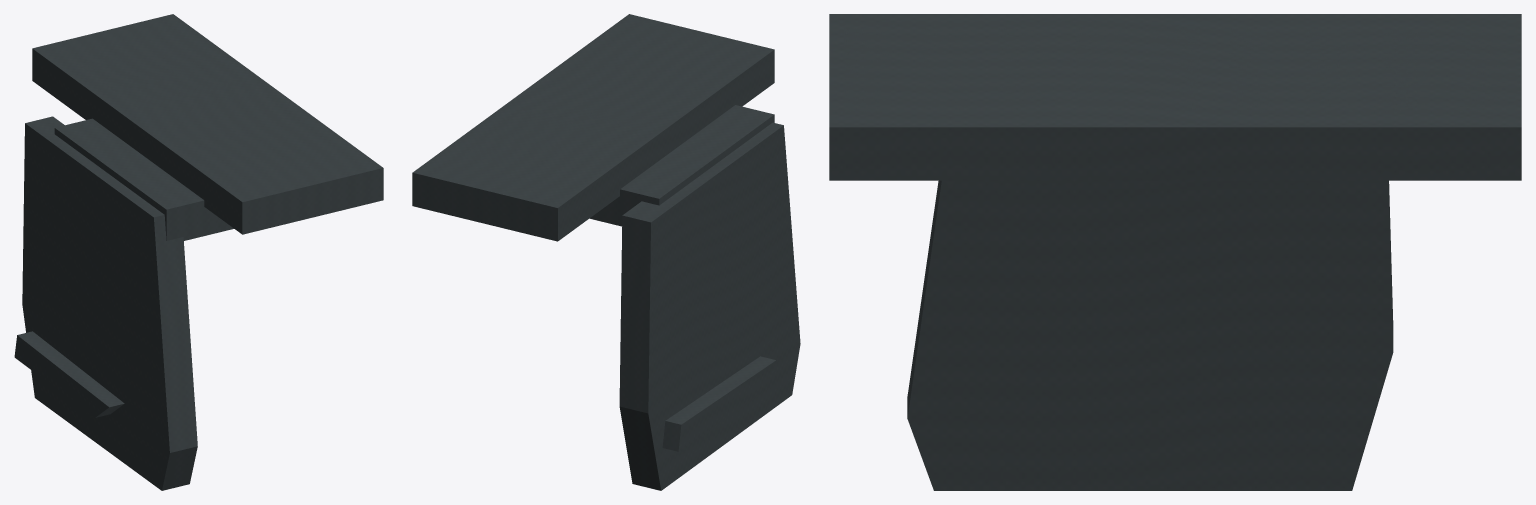
File: ak_mount.glb
3 views of the same model, side by side, from view 1: azimuth 30°, elevation 25°; view 2: azimuth 150°, elevation 25°; view 3: azimuth 270°, elevation 25° (orthographic). The views are drawn at different scales.
Parts seen in each view (by area): view 1: ak_mount_top_deck, ak_mount_top_deck.001; view 2: ak_mount_top_deck, ak_mount_top_deck.001; view 3: ak_mount_top_deck, ak_mount_top_deck.001.
Boxes of the visible parts, box(x1,y1,x2,y2) form: ak_mount_top_deck: box(14, 15, 381, 487); ak_mount_top_deck.001: box(22, 14, 383, 490); ak_mount_top_deck: box(414, 15, 799, 487); ak_mount_top_deck.001: box(412, 14, 800, 490); ak_mount_top_deck: box(832, 15, 1518, 486); ak_mount_top_deck.001: box(829, 14, 1521, 490).
Bounding box in the file's own units: 0.1345 × 0.185 × 0.235.
Materials: 1 (1 with a texture image).
